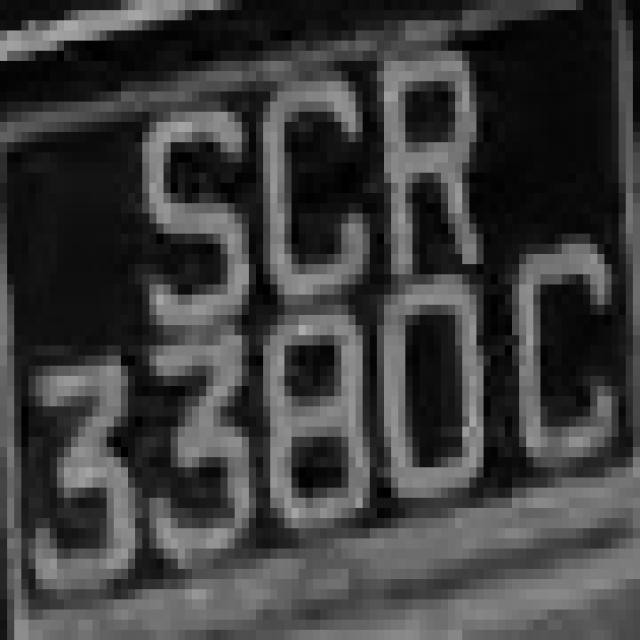0: (370, 284, 490, 548)
3: (14, 325, 142, 610), (142, 295, 256, 589)
8: (263, 284, 370, 569)
C: (505, 213, 633, 498), (235, 71, 384, 305)
R: (369, 31, 484, 284)
S: (121, 92, 256, 356)
